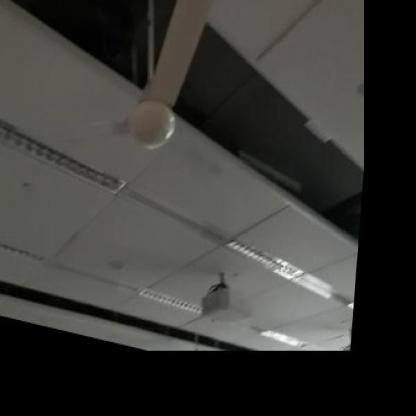light_off: (0, 81, 136, 212), (198, 201, 312, 294), (134, 271, 207, 333), (260, 317, 312, 360)
